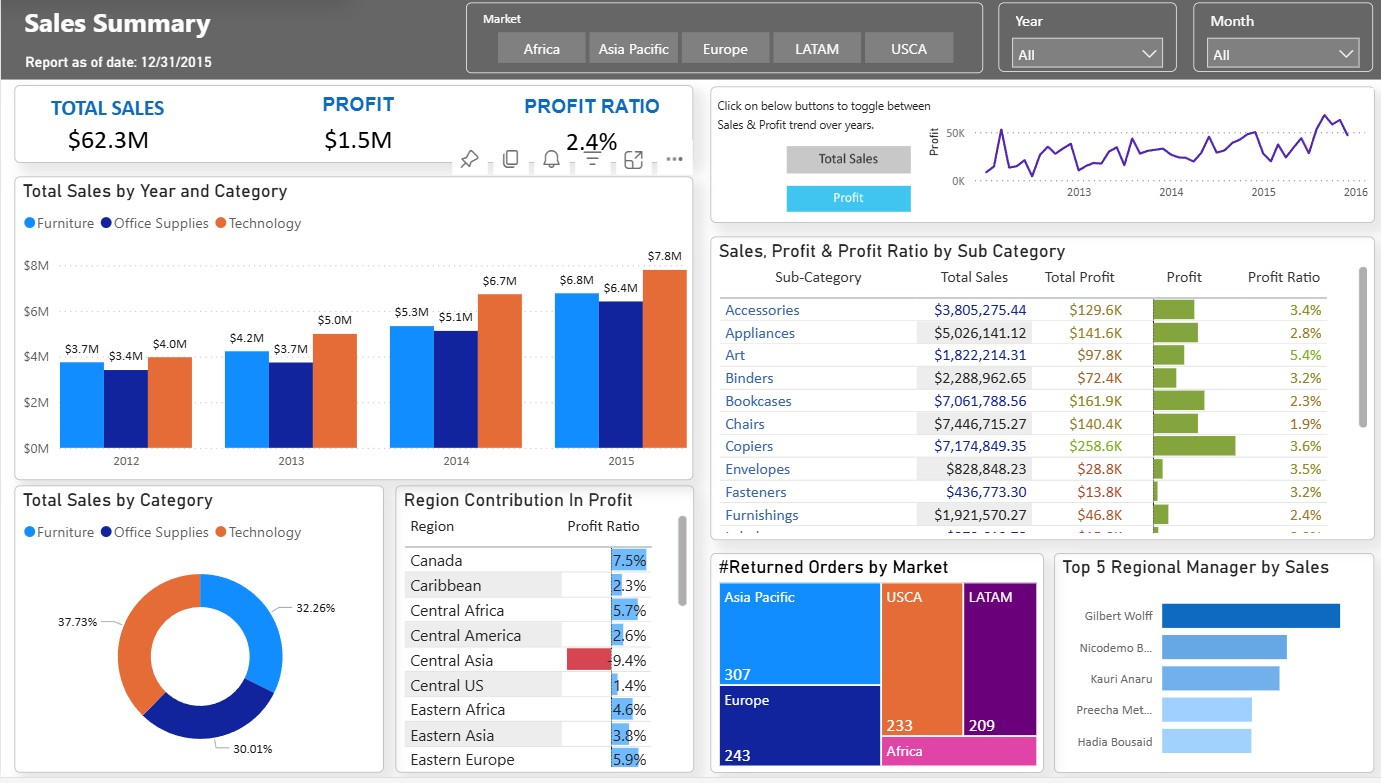

This screenshot's page, from the dashboard's own definition file:
{"tool":"powerbi","page":{"name":"Sales Summary","canvas":[1280,720],"ordinal":0},"visuals":[{"type":"shape","box":[12.5,80,627.5,72.2],"z":0},{"type":"shape","box":[655.2,81.9,614.2,125.9],"z":1000},{"type":"shape","box":[0,1.5,1280,74.3],"z":2000},{"type":"tableEx","title":"Region Contribution In Profit","fields":{"Values":["Orders.Region","Orders.Profit Margin"]},"box":[364,450.4,276,265.4],"z":3000},{"type":"card","fields":{"Values":["Orders.As of Date"]},"box":[0,42.5,216.9,33.4],"z":4000},{"type":"slicer","fields":{"Values":["Date Table.Year1"]},"box":[922.4,4.7,164.7,64.3],"z":5000},{"type":"slicer","fields":{"Values":["Date Table.MonthName"]},"box":[1102.7,4.7,166.3,64.3],"z":6000},{"type":"image","box":[721.3,164.1,125,44],"z":7000},{"type":"image","box":[721.3,127.1,125,44],"z":8000},{"type":"tableEx","title":"Sales, Profit & Profit Ratio by Sub Category","fields":{"Values":["Orders.Sub-Category","Orders.Total Sales","Orders.Total Profit","Sum(Orders.Profit)","Orders.Profit Ratio"]},"box":[655.2,219.9,614.2,280.6],"z":9000},{"type":"treemap","title":"#Returned Orders by Market","fields":{"Values":["CountNonNull(Returns.Order ID)"],"Group":["Orders.Market"]},"box":[655.2,512.6,307.9,203.2],"z":10000},{"type":"clusteredColumnChart","fields":{"Series":["Orders.Category"],"Y":["Orders.Total Sales"],"Category":["Date Table.Year"]},"box":[12.5,164.7,627.5,280.8],"z":11000},{"type":"donutChart","fields":{"Category":["Orders.Category"],"Y":["Orders.Total Sales"]},"box":[12.1,450.4,341.2,265.4],"z":12000},{"type":"lineChart","fields":{"Y":["Sum(Orders.Profit)"],"Category":["Date Table.Date.Variation.Date Hierarchy.Year","Date Table.Date.Variation.Date Hierarchy.Month"]},"box":[851.8,83.1,417.3,112.9],"z":14000},{"type":"card","fields":{"Values":["Orders.Total Sales"]},"box":[35,111.4,128.6,39.2],"z":17000},{"type":"card","fields":{"Values":["Orders.Total Profit"]},"box":[275.6,110.3,108.2,39.2],"z":18000},{"type":"card","fields":{"Values":["Orders.Profit Ratio"]},"box":[505.1,112.4,81.6,39.2],"z":19000},{"type":"textbox","box":[24.2,83.3,150,40],"z":20000},{"type":"textbox","box":[254.9,82.5,150,40],"z":21000},{"type":"textbox","box":[470.7,84.6,150,40],"z":22000},{"type":"textbox","box":[17.3,0,225.9,43.9],"z":23000},{"type":"barChart","title":"Top 5 Regional Manager by Sales","fields":{"Y":["Orders.Total Sales"],"Category":["People.Person"]},"box":[973.6,512.6,295.7,203.2],"z":24000},{"type":"slicer","fields":{"Values":["Orders.Market"]},"box":[429.2,4.5,477.7,65.2],"z":25000},{"type":"textbox","box":[656.7,83.4,212.3,47],"z":26000}]}

Visuals, with their boxes in screenshot pixels (x1, y1, x2, y2), scaled from the page's 1280x720 canvas onto the 1381x783 screenshot:
shape: {"x1": 13, "y1": 87, "x2": 690, "y2": 166}
shape: {"x1": 707, "y1": 89, "x2": 1370, "y2": 226}
shape: {"x1": 0, "y1": 2, "x2": 1380, "y2": 82}
"Region Contribution In Profit" tableEx: {"x1": 393, "y1": 490, "x2": 690, "y2": 778}
card - Orders.As of Date: {"x1": 0, "y1": 46, "x2": 234, "y2": 83}
slicer - Date Table.Year1: {"x1": 995, "y1": 5, "x2": 1173, "y2": 75}
slicer - Date Table.MonthName: {"x1": 1190, "y1": 5, "x2": 1369, "y2": 75}
image: {"x1": 778, "y1": 178, "x2": 913, "y2": 226}
image: {"x1": 778, "y1": 138, "x2": 913, "y2": 186}
"Sales, Profit & Profit Ratio by Sub Category" tableEx: {"x1": 707, "y1": 239, "x2": 1370, "y2": 544}
"#Returned Orders by Market" treemap: {"x1": 707, "y1": 557, "x2": 1039, "y2": 778}
clusteredColumnChart - Orders.Category x Orders.Total Sales: {"x1": 13, "y1": 179, "x2": 690, "y2": 484}
donutChart - Orders.Category x Orders.Total Sales: {"x1": 13, "y1": 490, "x2": 381, "y2": 778}
lineChart - Sum(Orders.Profit) x Date Table.Date.Variation.Date Hierarchy.Year: {"x1": 919, "y1": 90, "x2": 1369, "y2": 213}
card - Orders.Total Sales: {"x1": 38, "y1": 121, "x2": 177, "y2": 164}
card - Orders.Total Profit: {"x1": 297, "y1": 120, "x2": 414, "y2": 163}
card - Orders.Profit Ratio: {"x1": 545, "y1": 122, "x2": 633, "y2": 165}
textbox: {"x1": 26, "y1": 91, "x2": 188, "y2": 134}
textbox: {"x1": 275, "y1": 90, "x2": 437, "y2": 133}
textbox: {"x1": 508, "y1": 92, "x2": 670, "y2": 136}
textbox: {"x1": 19, "y1": 0, "x2": 262, "y2": 48}
"Top 5 Regional Manager by Sales" barChart: {"x1": 1050, "y1": 557, "x2": 1369, "y2": 778}
slicer - Orders.Market: {"x1": 463, "y1": 5, "x2": 978, "y2": 76}
textbox: {"x1": 709, "y1": 91, "x2": 938, "y2": 142}
